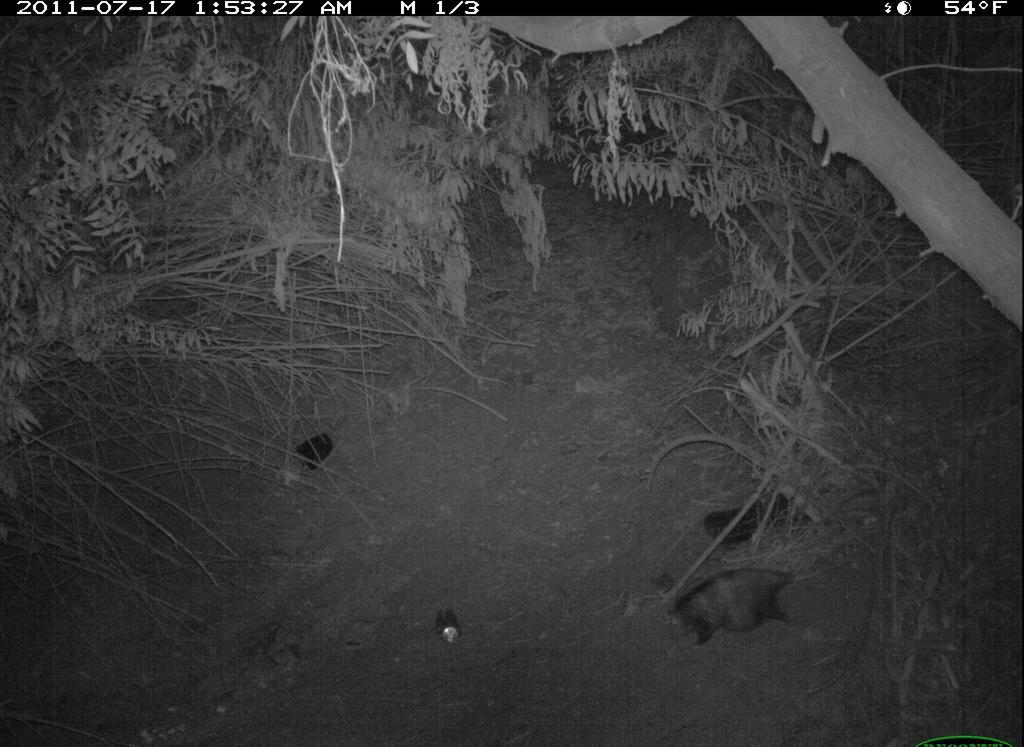opossum: (661, 557, 852, 658)
